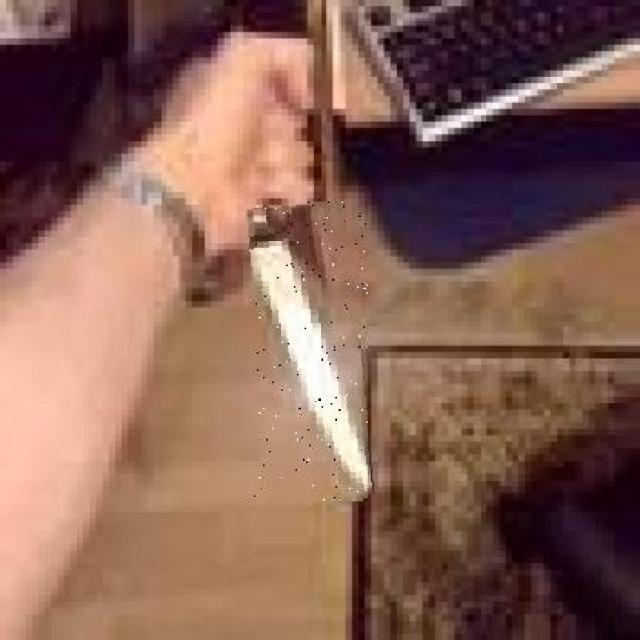knife: (254, 202, 368, 502)
